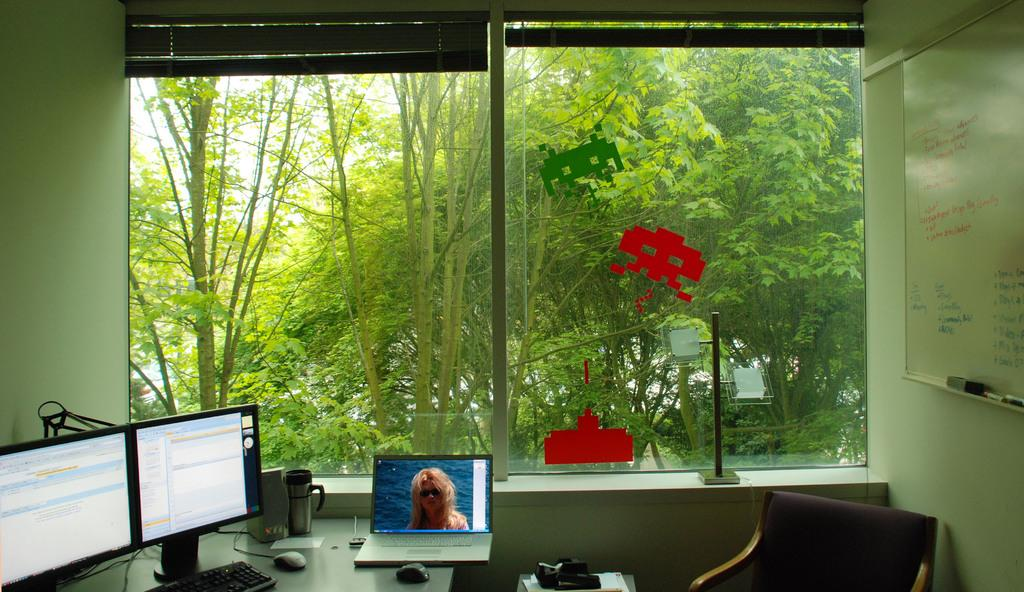Chair: (684, 486, 941, 591)
Computer-monitor: (129, 396, 267, 583), (0, 420, 140, 591), (368, 451, 496, 534)
